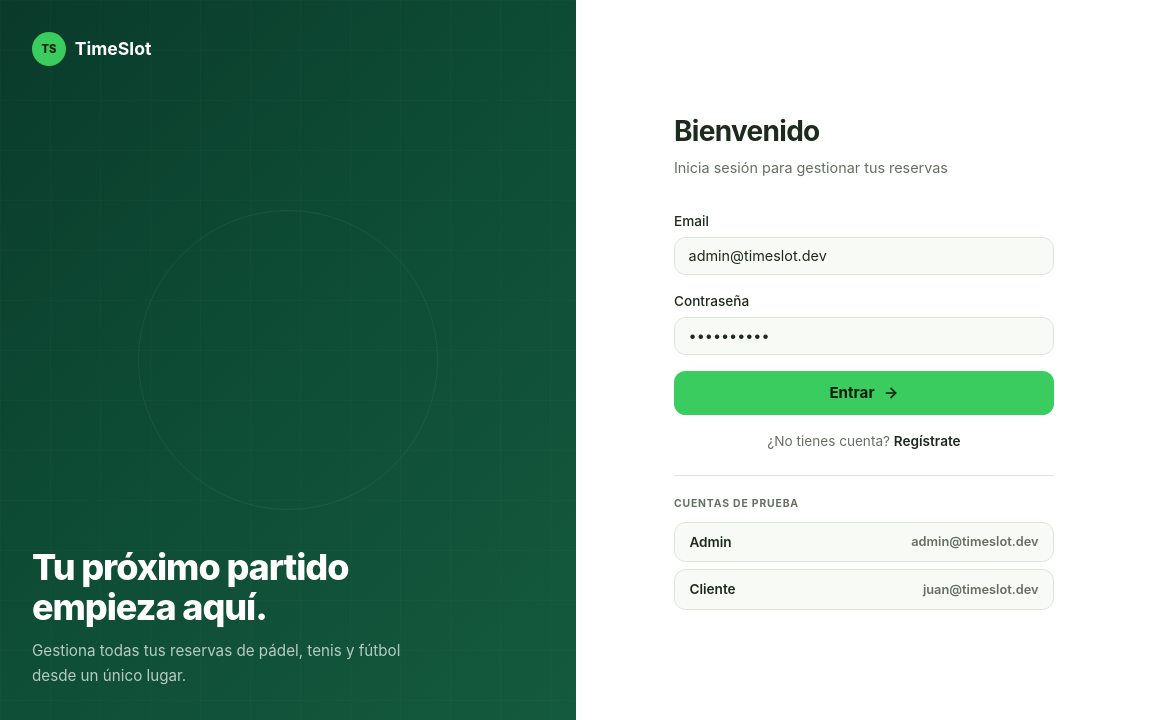
LoginPage › disables button while loading
This screenshot has width=1152, height=720.
Click the button "Entrar": (864, 393) [674, 371, 1054, 415]
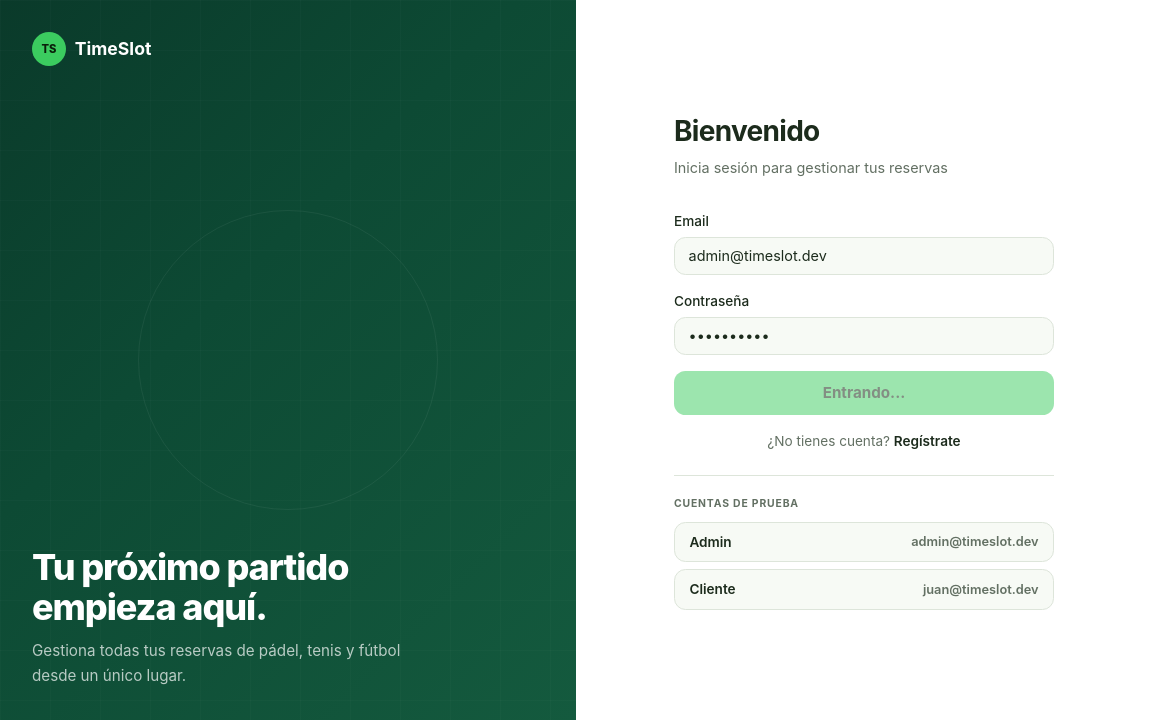
Check: the button "Entrando..." is disabled, box [674, 371, 1054, 415]
